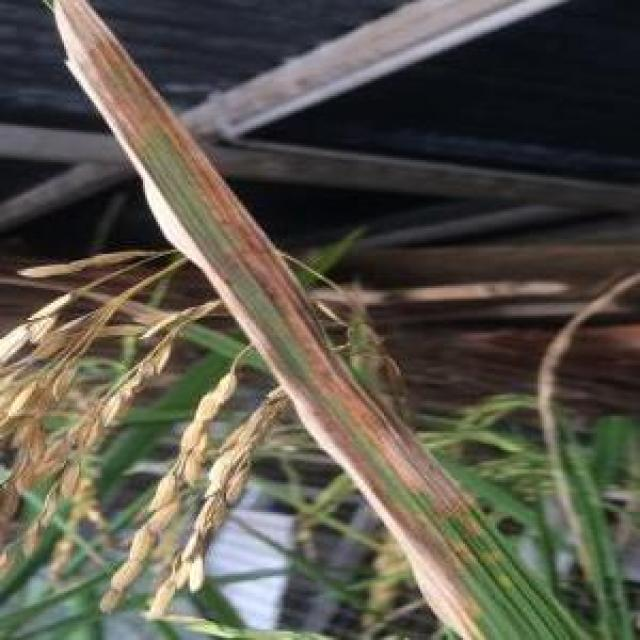leaf blight: (55, 2, 478, 551)
